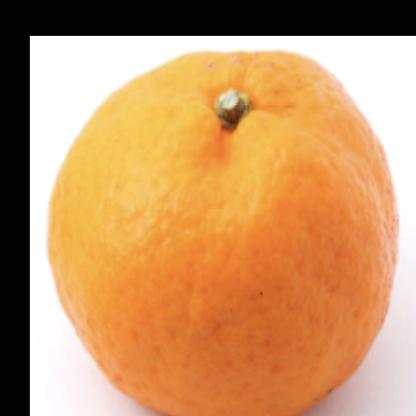fresh: (51, 47, 394, 416)
